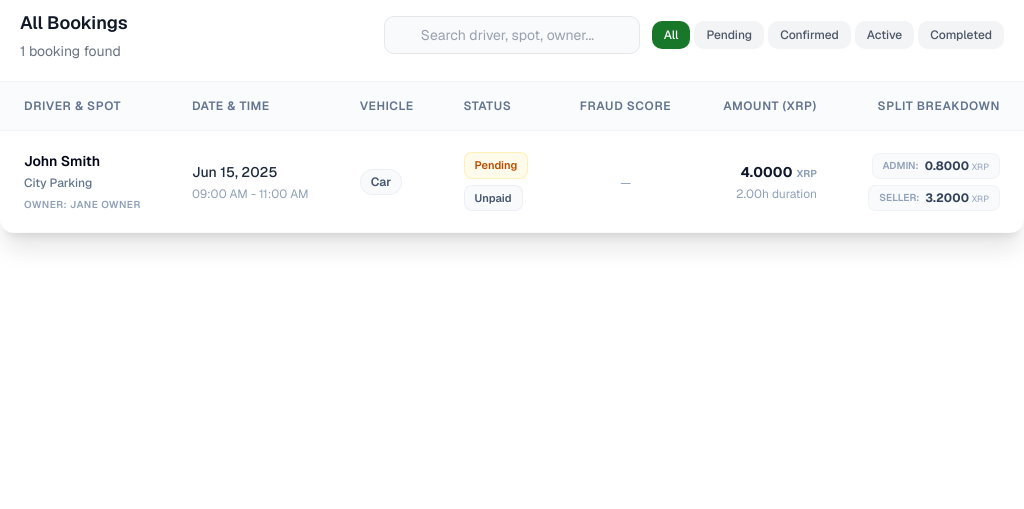
Test case: BookingTable Component › Expanded Row Details › click again collapses expanded row
The image size is (1024, 509).
Step 1. Click the text "John Smith" → {"x": 62, "y": 161}, box [24,152,100,170]
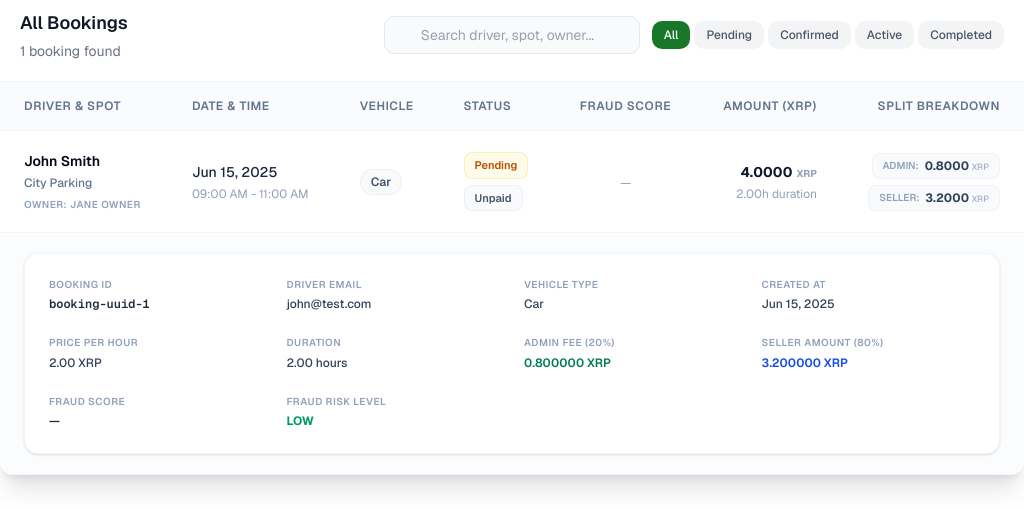
Expected: the text "Booking ID" is shown, [49,278,112,291]
Step 2. Click the text "John Smith" → {"x": 62, "y": 161}, box [24,152,100,170]
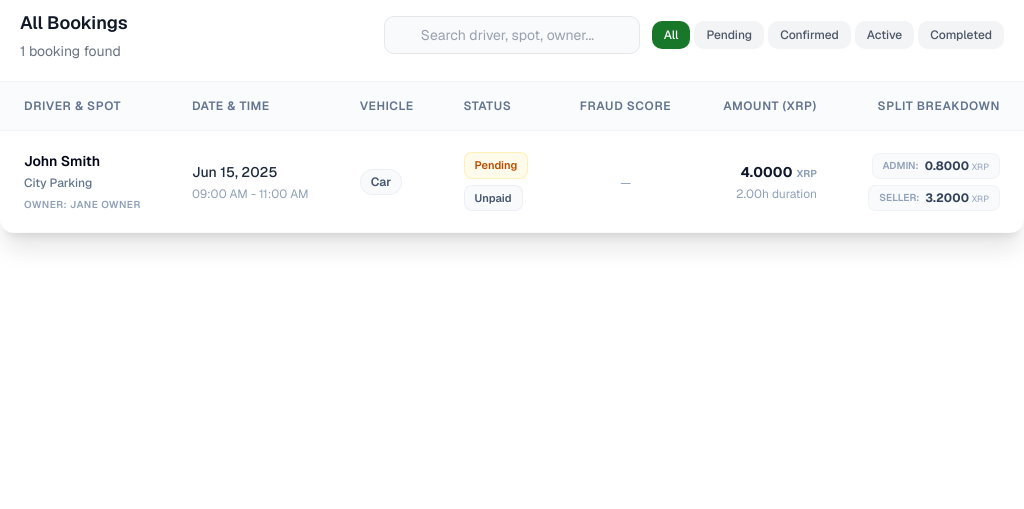
Expected: the text "Booking ID" is gone
